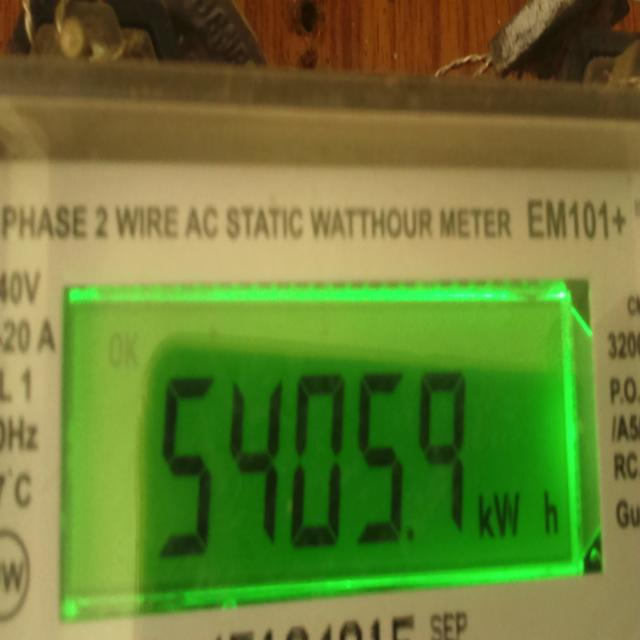.: (404, 521, 416, 547)
0: (290, 361, 349, 563)
4: (226, 364, 287, 543)
5: (147, 362, 219, 574), (351, 370, 417, 549)
9: (409, 350, 471, 538)
